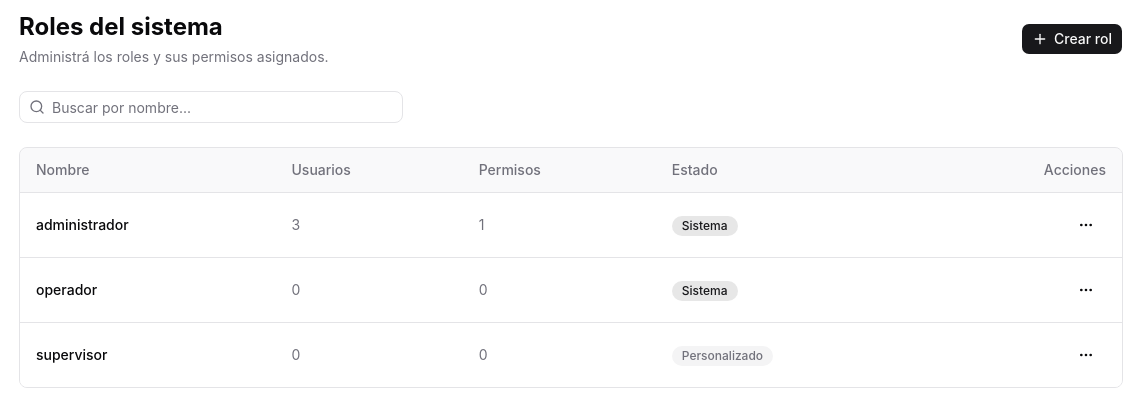
PaginaRoles › filtra roles por el campo de búsqueda
The image size is (1140, 405).
In the field with placeholder "Buscar por nombre...": point(211, 107) [19,91,403,123], type "admin"
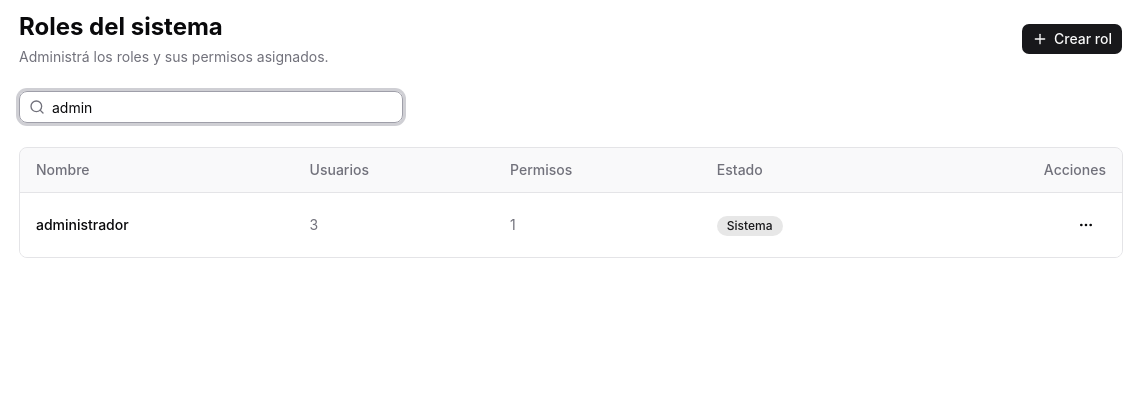
Expected: the text "administrador" is shown, [36,216,129,233]
Result: the text "operador" is gone
Result: the text "supervisor" is gone
